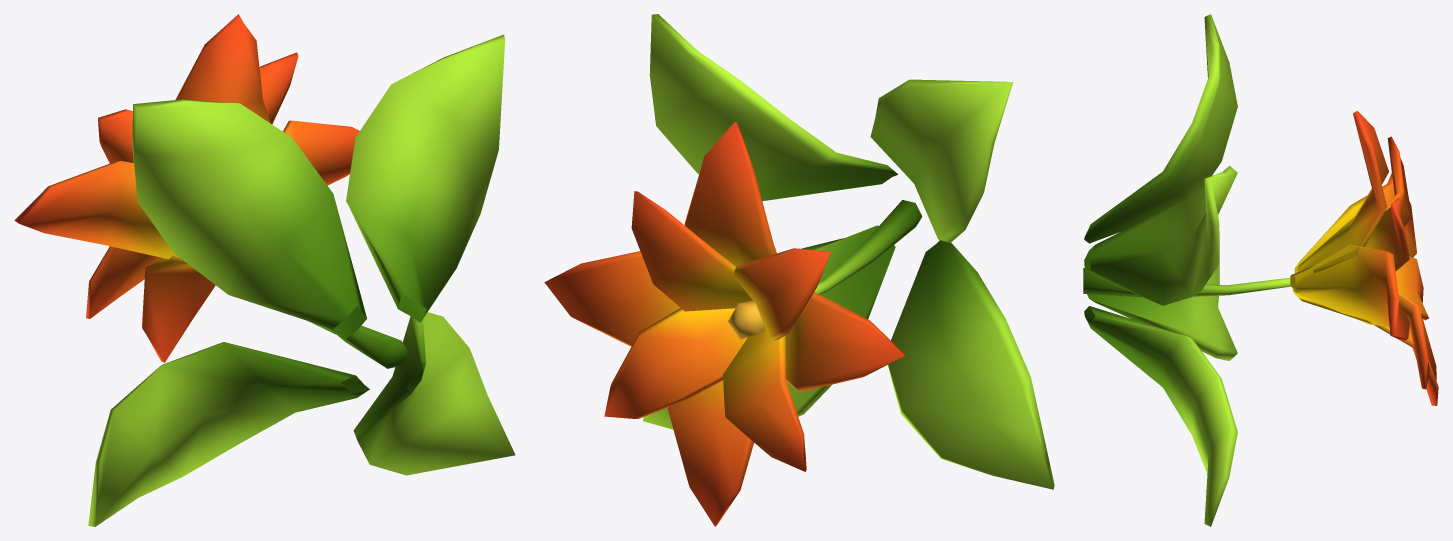
The model's file is bigorngflwrs.fbx.
3 renders of one model, left to right at view 1: azimuth 30°, elevation 25°; view 2: azimuth 150°, elevation 25°; view 3: azimuth 270°, elevation 25°, orthographic. The views are drawn at different scales.
Parts seen in each view (by area): view 1: FLOWERVAR2; view 2: FLOWERVAR2; view 3: FLOWERVAR2.
Part boxes in pixels (x1,y1,x2,y2): FLOWERVAR2: (14, 14, 515, 526); FLOWERVAR2: (544, 14, 1054, 526); FLOWERVAR2: (1083, 14, 1438, 526).
Size of the model in its own units: 412 by 411 by 366.
